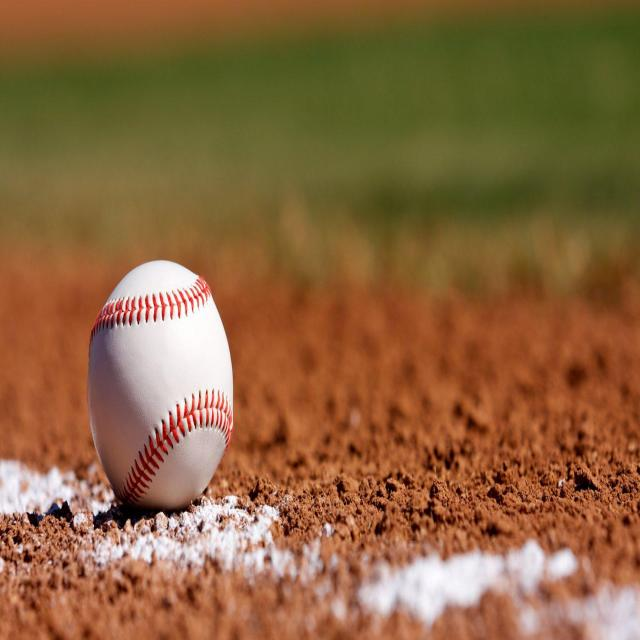baseball: (89, 256, 235, 512)
